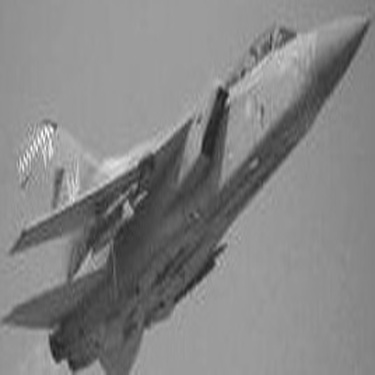airplane: (2, 4, 369, 372)
